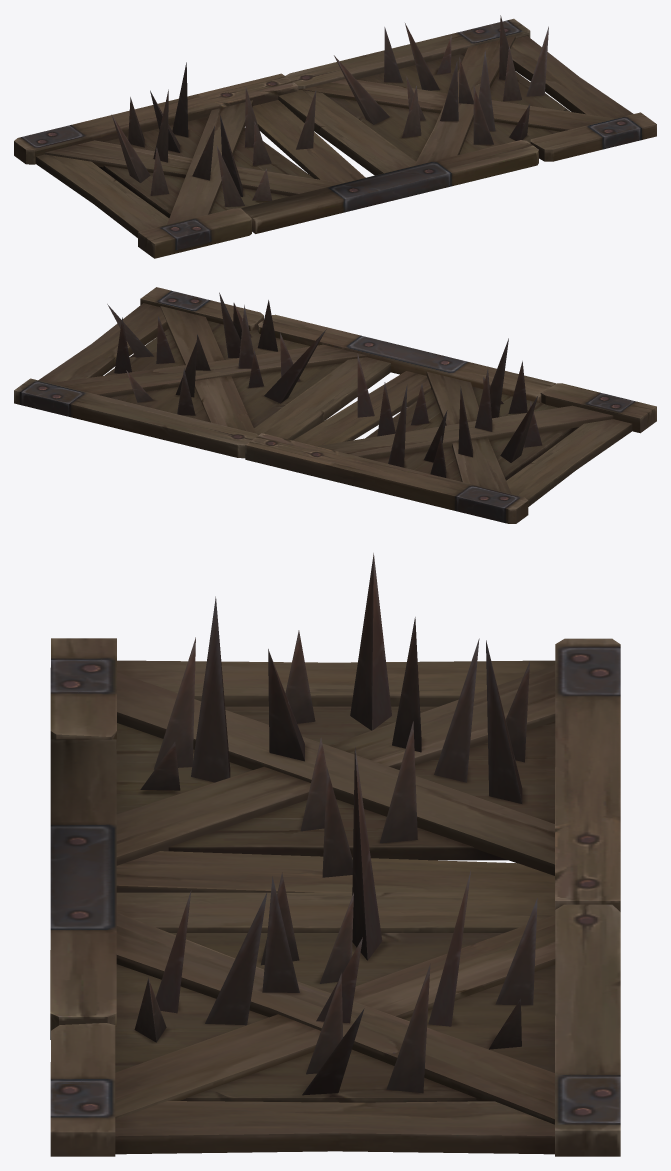
Rendered from spiketrap02.FBX.
3 renders of one model, top to bottom at view 1: azimuth 30°, elevation 25°; view 2: azimuth 150°, elevation 25°; view 3: azimuth 270°, elevation 25°, orthographic. The views are drawn at different scales.
Parts seen in each view (by area): view 1: spiketrap02; view 2: spiketrap02; view 3: spiketrap02.
Part boxes in pixels (<box>): spiketrap02: <box>14,15,656,258</box>; spiketrap02: <box>14,287,656,523</box>; spiketrap02: <box>50,553,620,1156</box>.
Size of the model in its own units: 2 by 0.358 by 0.9857.
Materials: 1 (1 with a texture image).
